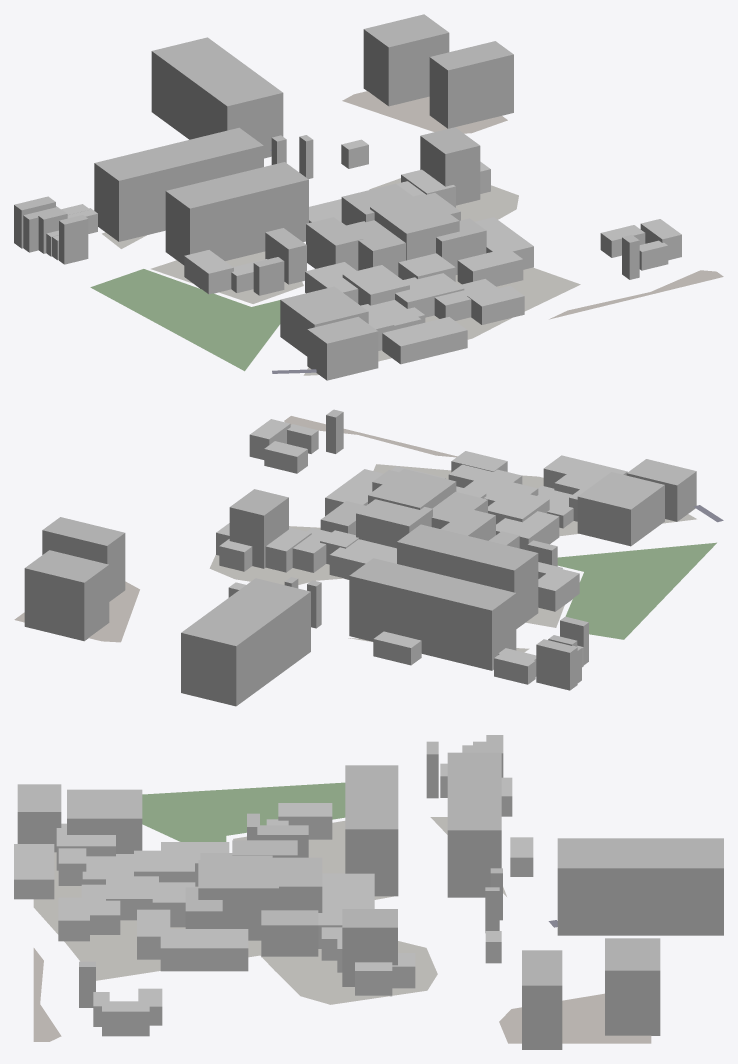
Rendered from 126_113_mid.glb.
3 views of the same model, one above another, from view 1: azimuth 30°, elevation 25°; view 2: azimuth 150°, elevation 25°; view 3: azimuth 270°, elevation 25° (orthographic). The views are drawn at different scales.
Bounding box in the file's own units: 522 × 61.08 × 575.
